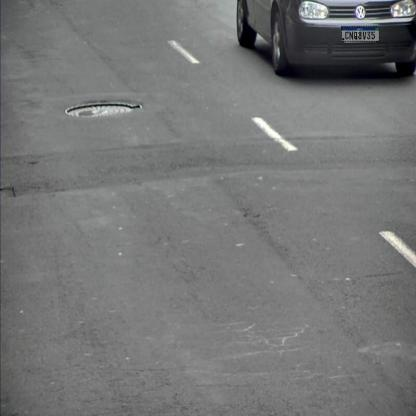PlacaM: (341, 26, 380, 42)
